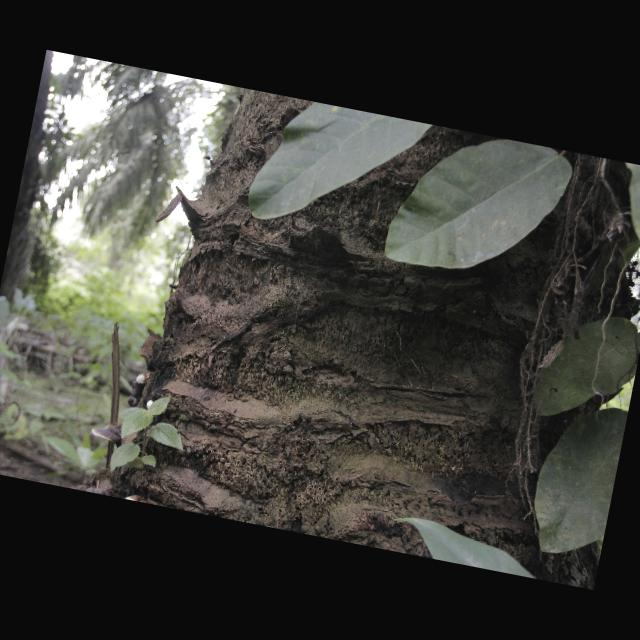ganoderma: (91, 421, 126, 444)
primordium: (135, 374, 150, 386), (147, 401, 155, 411)
